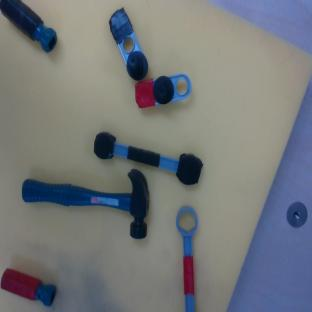part_1_bad: (103, 7, 152, 82)
part_1_good: (132, 70, 194, 109)
part_2_good: (0, 266, 58, 307)
part_3_bad: (89, 129, 205, 187)
part_3_good: (173, 206, 198, 311)
